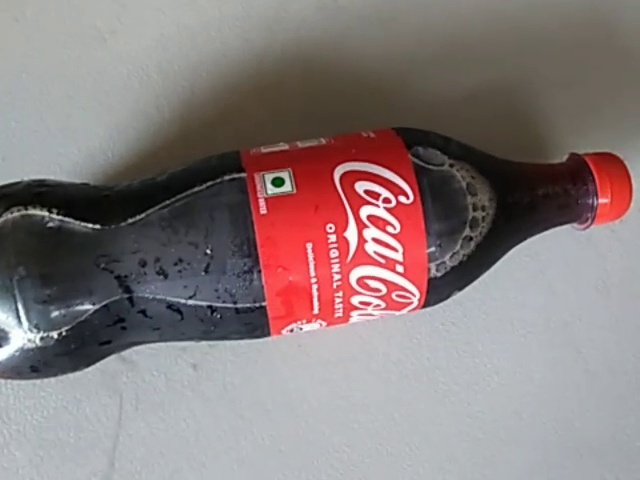Cocacola: (22, 100, 640, 383)
